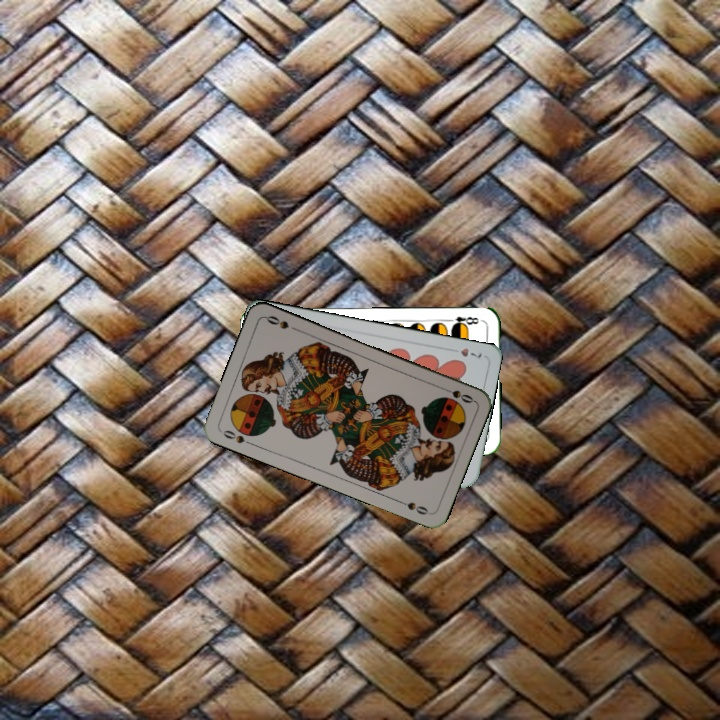E8: (443, 312, 481, 330)
H7: (445, 344, 484, 361)
SO: (437, 383, 476, 406), (217, 426, 256, 448)
